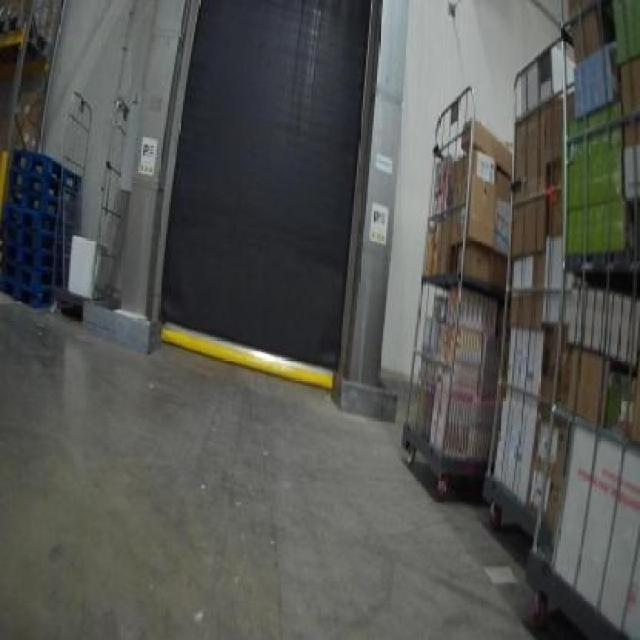pallets: (483, 0, 637, 637), (2, 148, 77, 305)
